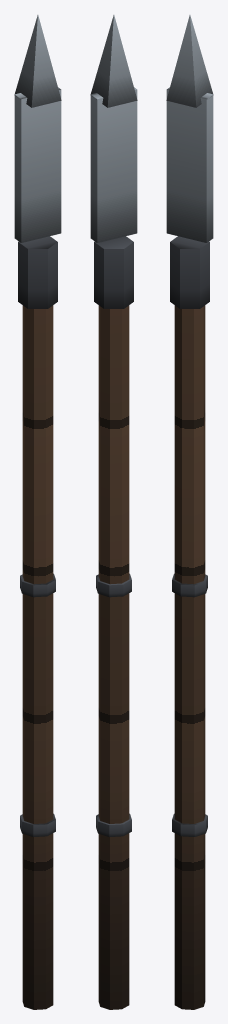
Rendered from spear.gltf.
3 views of the same model, side by side, from view 1: azimuth 30°, elevation 25°; view 2: azimuth 210°, elevation 25°; view 3: azimuth 330°, elevation 25° (orthographic).
Parts seen in each view (by area): view 1: spear; view 2: spear; view 3: spear.
Boxes of the visible parts, <box> form: spear: <box>14,15,61,1009</box>; spear: <box>90,15,137,1009</box>; spear: <box>166,15,213,1009</box>.
Bounding box in the file's own units: 0.07 × 1.65 × 0.06.
Materials: 1 (1 with a texture image).
